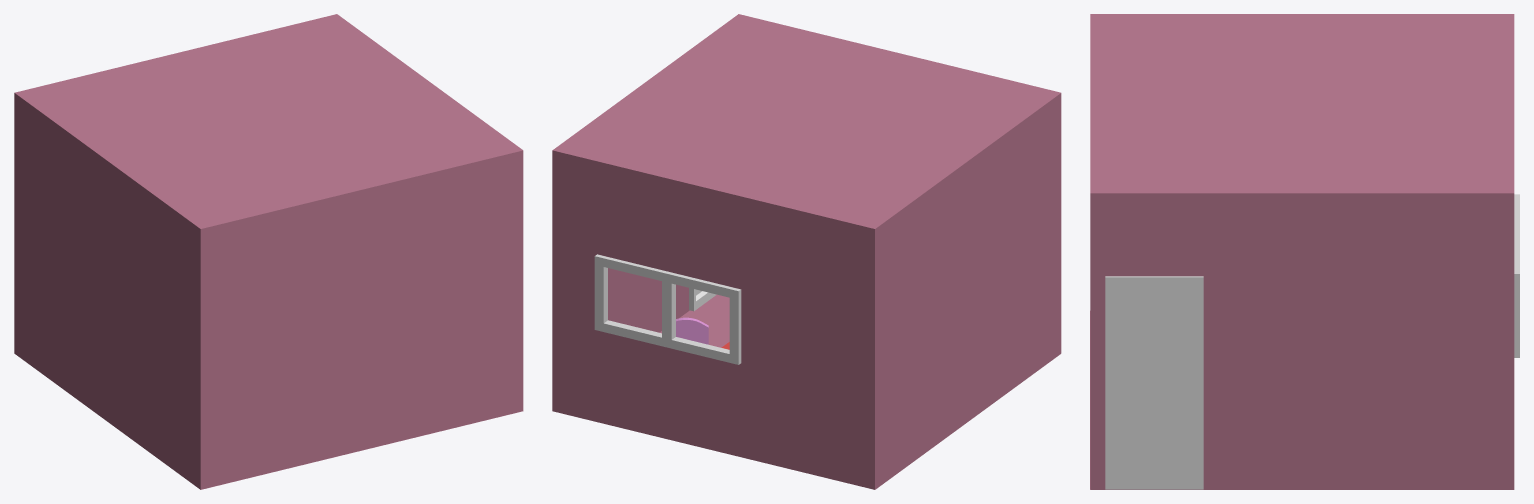
Rendered from moveisSimples.fbx.
3 renders of one model, left to right at view 1: azimuth 30°, elevation 25°; view 2: azimuth 150°, elevation 25°; view 3: azimuth 270°, elevation 25°, orthographic. The views are drawn at different scales.
Visible parts, largest first — view 1: Plane.002; view 2: Plane.002, Cube, Plane.001, cadeira; view 3: Plane.002, porta, Cube.
Boxes of the visible parts, x1=… form: Plane.002: x1=14, y1=14, x2=523, y2=489; Plane.002: x1=552, y1=14, x2=1061, y2=489; Cube: x1=594, y1=254, x2=741, y2=364; Plane.001: x1=659, y1=294, x2=729, y2=347; cadeira: x1=676, y1=317, x2=708, y2=344; Plane.002: x1=1090, y1=14, x2=1514, y2=489; porta: x1=1105, y1=276, x2=1203, y2=489; Cube: x1=1514, y1=194, x2=1519, y2=357.
Bounding box in the file's own units: 992 × 761 × 1000.
